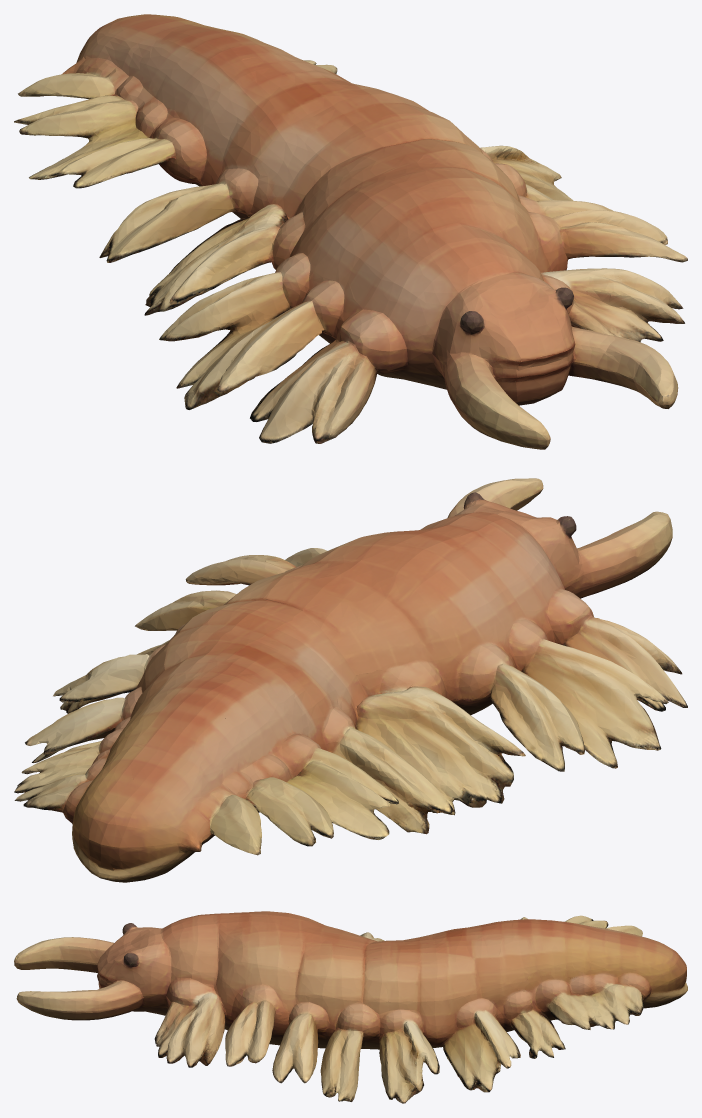
The picture shows the model from 3 angles, top to bottom: view 1: azimuth 30°, elevation 25°; view 2: azimuth 150°, elevation 25°; view 3: azimuth 270°, elevation 25°; orthographic projection. The views are drawn at different scales.
Visible parts, largest first — view 1: world; view 2: world; view 3: world.
Part boxes in pixels (<box>): world: <box>14,14,687,449</box>; world: <box>14,478,687,882</box>; world: <box>14,911,687,1103</box>.
Bounding box in the file's own units: 0.0309 × 0.00926 × 0.054.
1 material, 1 textured.
